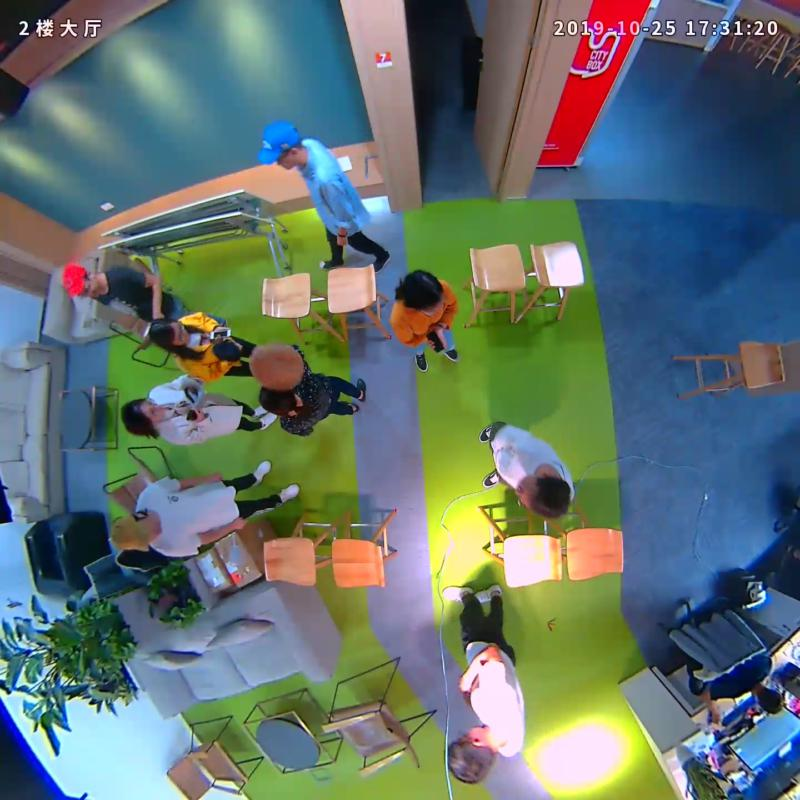head: (447, 725, 496, 786), (514, 474, 571, 519), (257, 121, 301, 170), (398, 270, 443, 313), (109, 516, 156, 553), (121, 397, 166, 431), (258, 379, 297, 416), (62, 263, 100, 299), (148, 317, 191, 348)
